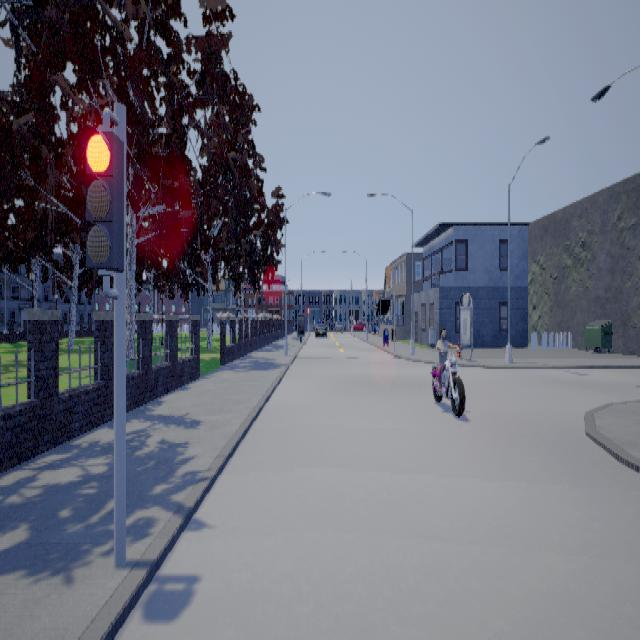bike: (428, 327, 467, 416)
red_light: (82, 106, 125, 298)
vehicle: (313, 318, 330, 337)
